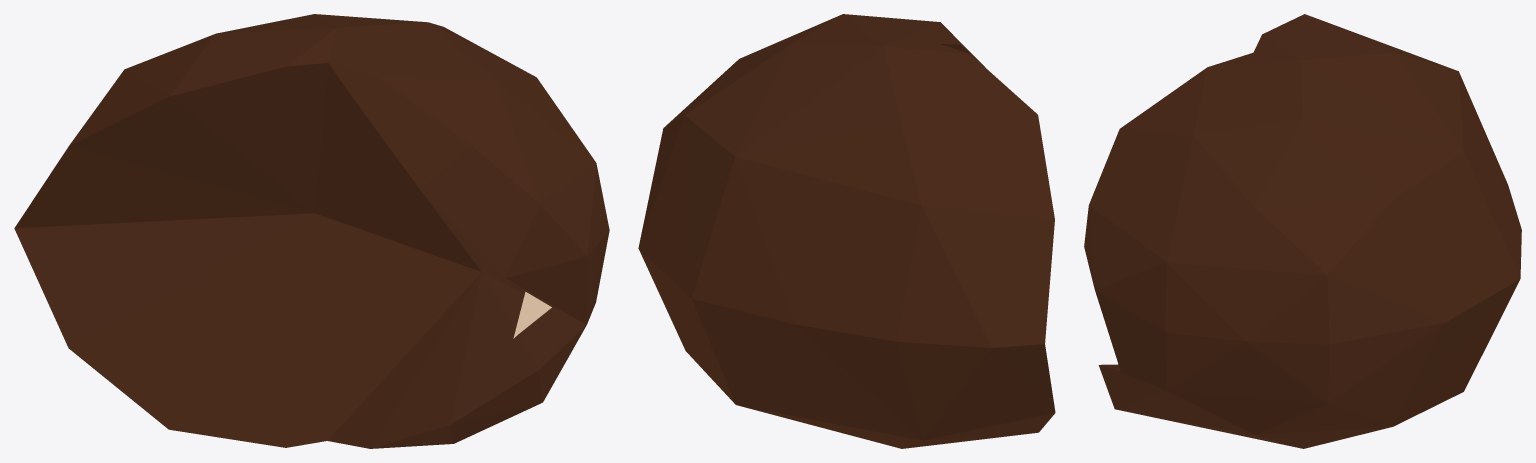
File: hair37.glb
3 renders of one model, left to right at view 1: azimuth 30°, elevation 25°; view 2: azimuth 150°, elevation 25°; view 3: azimuth 270°, elevation 25°, orthographic. The views are drawn at different scales.
Parts seen in each view (by area): view 1: tomodachi-2026-03-20-11-29-48-261, tomodachi-2026-03-20-11-29-48-261.008; view 2: tomodachi-2026-03-20-11-29-48-261; view 3: tomodachi-2026-03-20-11-29-48-261.
Part boxes in pixels (box(x1,y1,x2,y2)): tomodachi-2026-03-20-11-29-48-261: box(14, 14, 609, 448); tomodachi-2026-03-20-11-29-48-261.008: box(513, 291, 551, 338); tomodachi-2026-03-20-11-29-48-261: box(638, 14, 1055, 448); tomodachi-2026-03-20-11-29-48-261: box(1084, 14, 1521, 448).
Bounding box in the file's own units: 1.49 × 1.19 × 1.29.
Materials: 2 (2 with a texture image).
